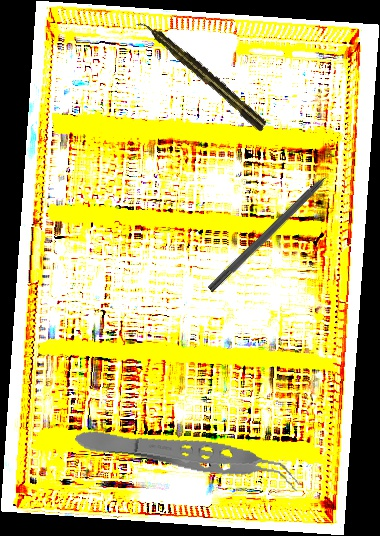Handpiece: (134, 13, 271, 135)
Hook Surgical: (206, 160, 345, 295)
Tissue Forceps: (72, 420, 305, 493)
